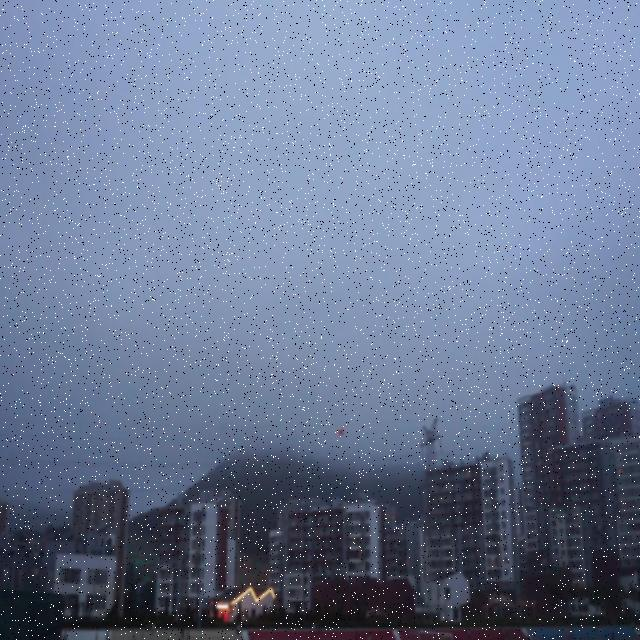UAV: (336, 426, 346, 436)
